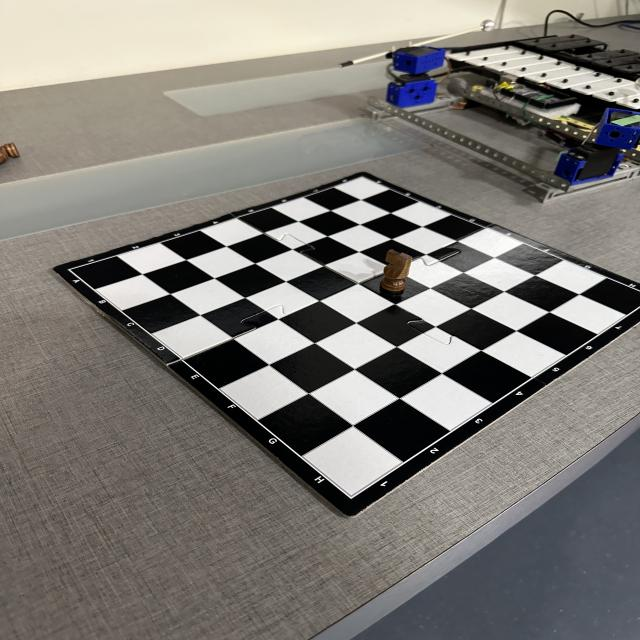Black-Knight: (381, 248, 414, 293)
